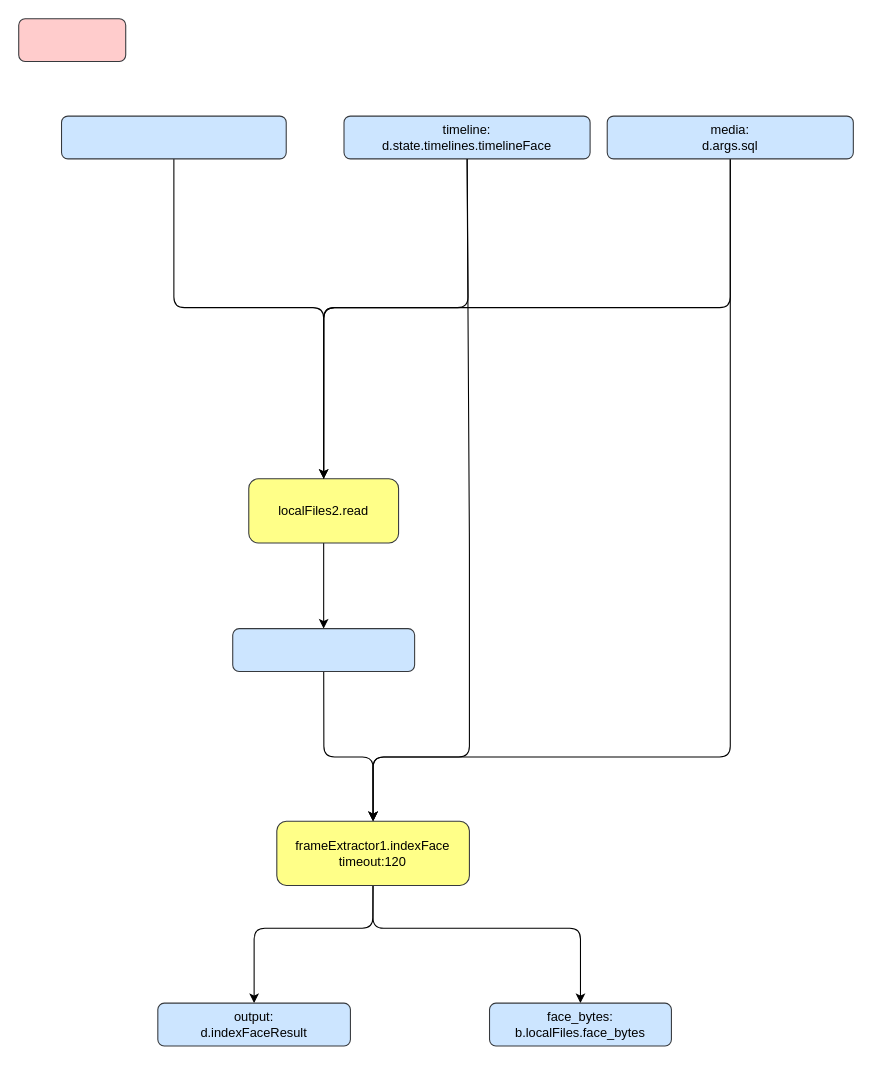
The diagram is 872 pixels wide and 1065 high, and some of its shapes have lost their labels. Here are the shapes that lost their labels. From the top down, the centre of each, then its label:
At (x=72, y=40): "type:flux".
At (x=173, y=137): "source: d.state.sources.localFiles.image".
At (x=323, y=649): "bytes: b.localFiles.imageFace".
